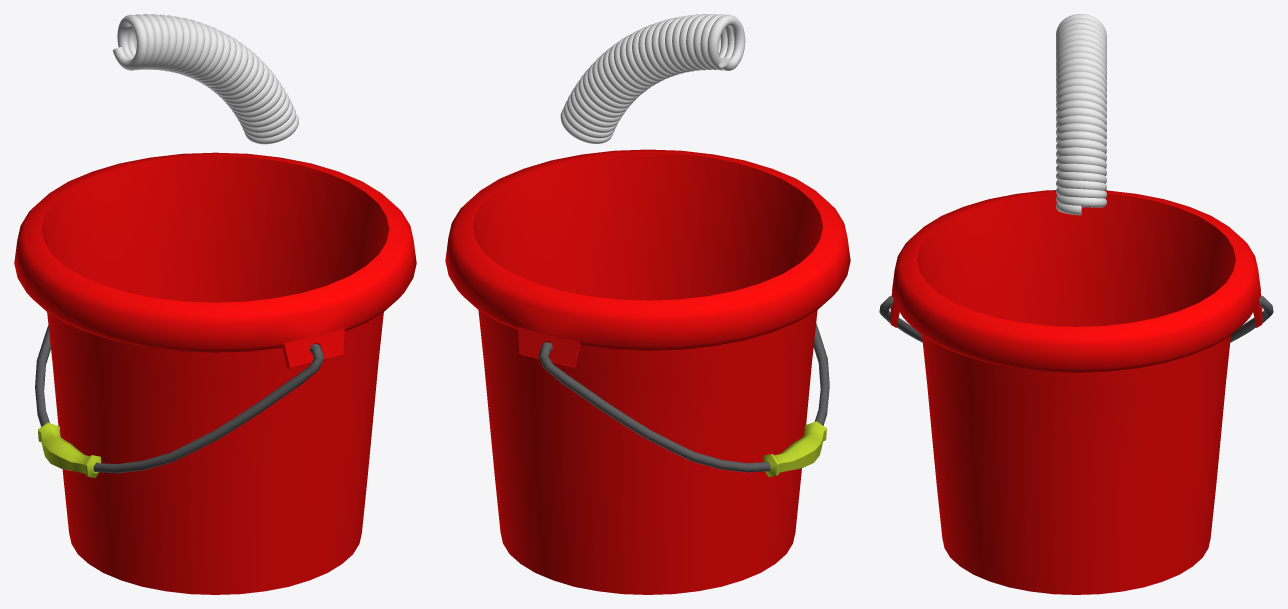
Rendered from shanzhuishuitong.FBX.
3 renders of one model, left to right at view 1: azimuth 30°, elevation 25°; view 2: azimuth 150°, elevation 25°; view 3: azimuth 270°, elevation 25°, orthographic. The views are drawn at different scales.
Visible parts, largest first — view 1: ST_T001, Helix001; view 2: ST_T001, Helix001; view 3: ST_T001, Helix001.
Part boxes in pixels (x1,y1,x2,y2): ST_T001: (14, 152, 416, 594); Helix001: (112, 14, 298, 144); ST_T001: (445, 149, 850, 594); Helix001: (560, 14, 745, 143); ST_T001: (879, 190, 1273, 594); Helix001: (1056, 14, 1106, 215).
Size of the model in its own units: 14.14 by 20.76 by 15.13.
